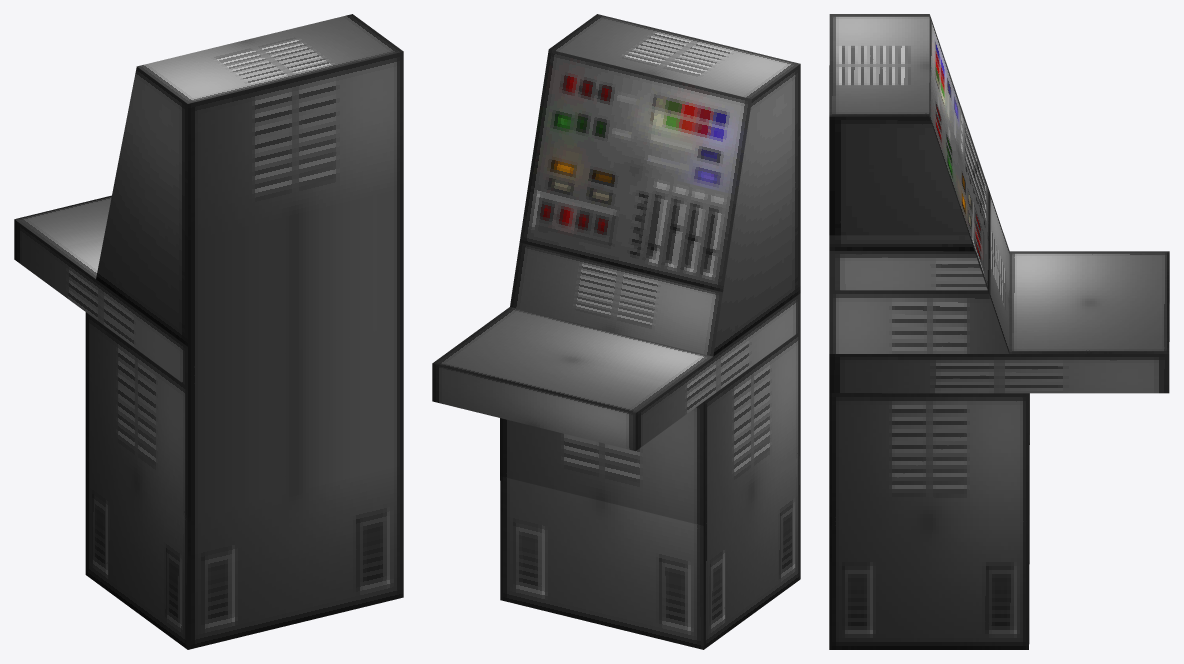
File: primary_100.glb
3 views of the same model, side by side, from view 1: azimuth 30°, elevation 25°; view 2: azimuth 150°, elevation 25°; view 3: azimuth 270°, elevation 25° (orthographic). The views are drawn at different scales.
Parts seen in each view (by area): view 1: Object; view 2: Object; view 3: Object.
Boxes of the visible parts, x1,y1,x2,y2 form: Object: (14, 14, 403, 649); Object: (432, 14, 800, 649); Object: (829, 14, 1169, 649).
Size of the model in its own units: 0.7377 by 1.78 by 1.03.
Materials: 20 (20 with a texture image).
